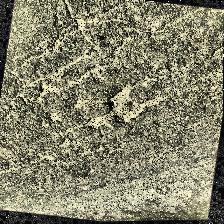pothole: (78, 74, 170, 148)
